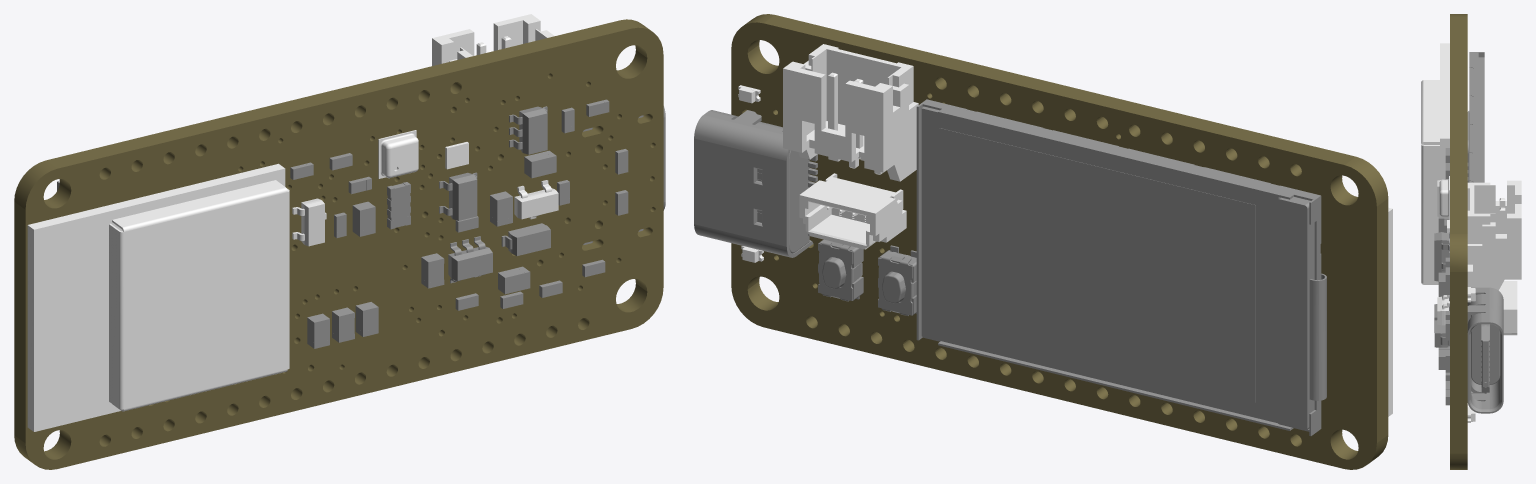
File: 5300 ESP32-S2 TFT Feather.glb
3 views of the same model, side by side, from view 1: azimuth 30°, elevation 25°; view 2: azimuth 150°, elevation 25°; view 3: azimuth 270°, elevation 25° (orthographic). The views are drawn at different scales.
Parts seen in each view (by area): view 1: Board, PCB Component, 0805-NO (×8), SOT23-5 (×3), SOT23-R (×2), SOD-123, RESPACK_4X0603; view 2: TFT_1.14IN_240X135_WRAPUNDER, Board, PCB Component, USB_C_CUSB31-CFM2AX-01-X, BTN_KMR2_4.6X2.8 (×2); view 3: PCB Component, Board, USB_C_CUSB31-CFM2AX-01-X, TFT_1.14IN_240X135_WRAPUNDER, 0805-NO (×3), SOT23-5, SOD-123, SOT23-R.
Boxes of the visible parts, bbox=[...] form: Board: bbox=[14, 19, 663, 469]; PCB Component: bbox=[27, 14, 554, 431]; 0805-NO (×8): bbox=[307, 150, 556, 348]; SOT23-5 (×3): bbox=[439, 106, 547, 283]; SOT23-R (×2): bbox=[292, 180, 558, 246]; SOD-123: bbox=[501, 223, 550, 255]; RESPACK_4X0603: bbox=[387, 182, 410, 229]; TFT_1.14IN_240X135_WRAPUNDER: bbox=[916, 99, 1326, 435]; Board: bbox=[731, 14, 1388, 469]; PCB Component: bbox=[738, 44, 1392, 416]; USB_C_CUSB31-CFM2AX-01-X: bbox=[694, 110, 817, 257]; BTN_KMR2_4.6X2.8 (×2): bbox=[818, 239, 916, 315]; PCB Component: bbox=[1421, 43, 1521, 422]; Board: bbox=[1450, 14, 1467, 469]; USB_C_CUSB31-CFM2AX-01-X: bbox=[1467, 287, 1503, 413]; TFT_1.14IN_240X135_WRAPUNDER: bbox=[1467, 52, 1484, 182]; 0805-NO (×3): bbox=[1438, 213, 1449, 369]; SOT23-5: bbox=[1434, 232, 1449, 270]; SOD-123: bbox=[1434, 320, 1449, 347]; SOT23-R: bbox=[1437, 295, 1449, 325].
Bounding box in the file's own units: 51.88 × 22.86 × 8.92.
